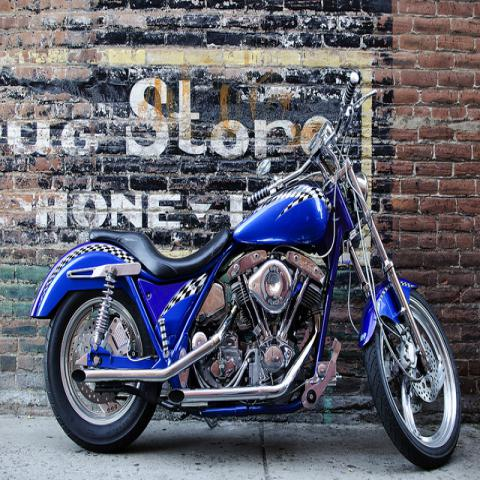motorcycle: (30, 72, 461, 471)
